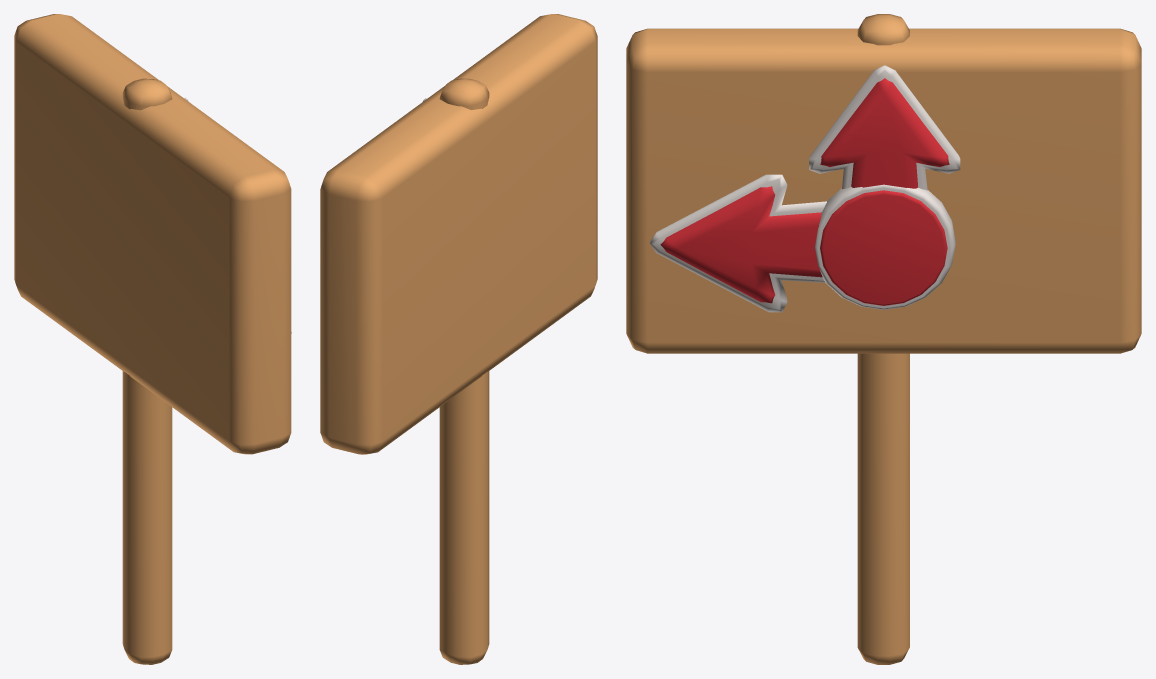
Rendered from Sign2LeftForward.fbx.
3 renders of one model, left to right at view 1: azimuth 30°, elevation 25°; view 2: azimuth 150°, elevation 25°; view 3: azimuth 270°, elevation 25°, orthographic. The views are drawn at different scales.
Visible parts, largest first — view 1: pCylinder3; view 2: pCylinder3; view 3: pCylinder3.
Part boxes in pixels (x1,y1,x2,y2): pCylinder3: [14, 14, 291, 664]; pCylinder3: [320, 14, 597, 664]; pCylinder3: [626, 14, 1141, 664].
Size of the model in its own units: 0.6932 by 4.98 by 3.62.
